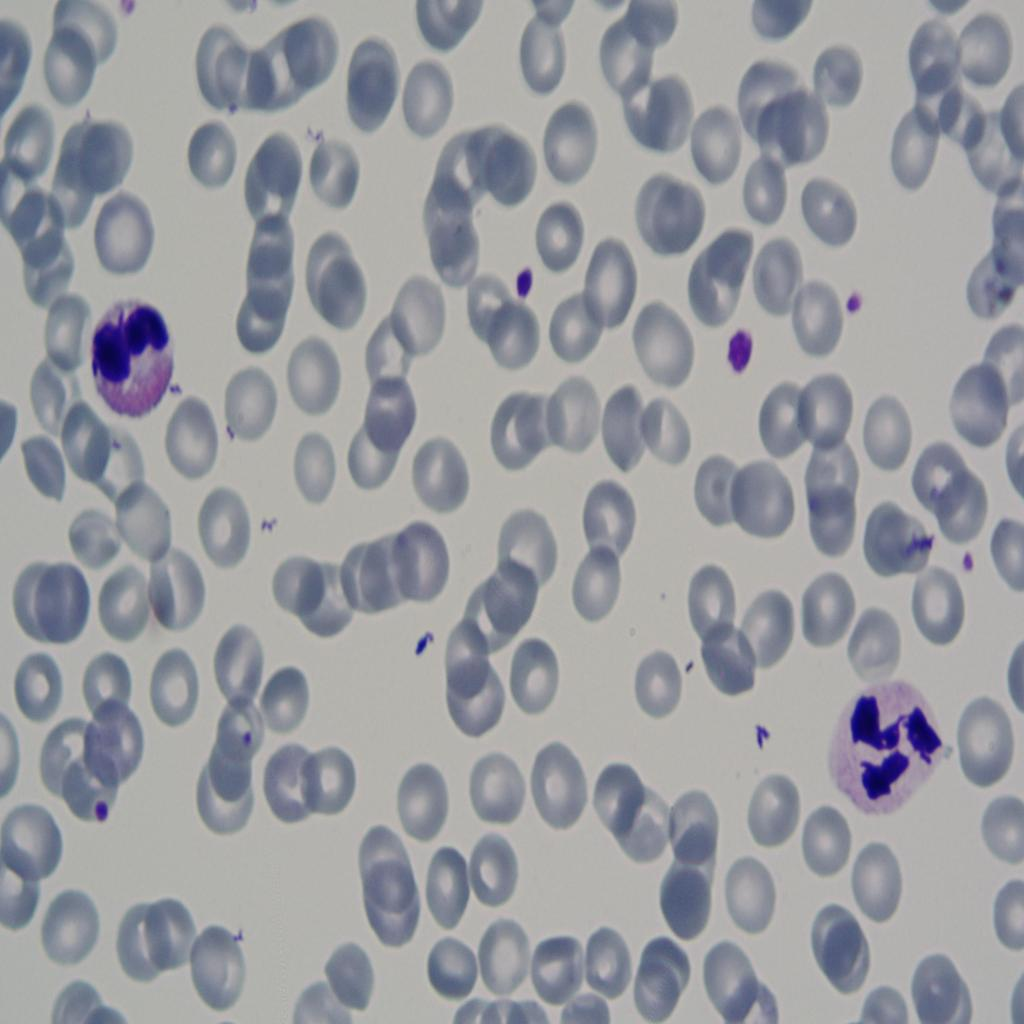Eosinofil: (85, 292, 179, 436)
Neutrofil: (837, 668, 935, 834)
Platelet: (496, 254, 554, 324), (717, 319, 765, 396), (84, 784, 121, 848), (844, 272, 866, 340), (961, 534, 991, 576)
